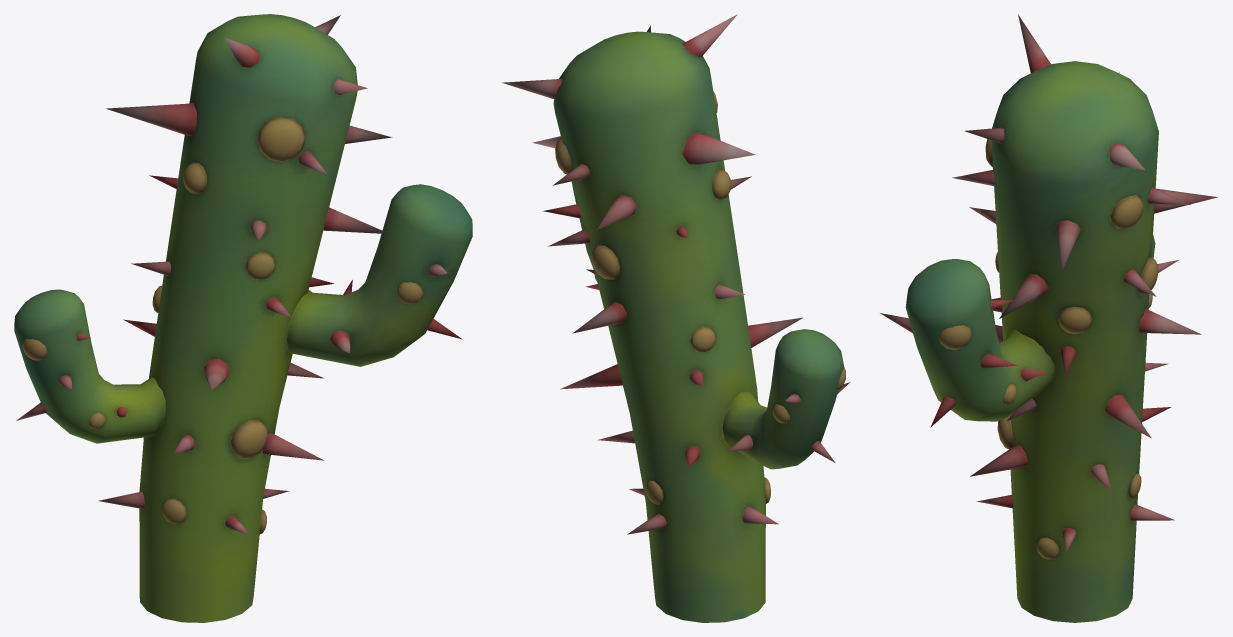
File: cactus_1.glb
3 views of the same model, side by side, from view 1: azimuth 30°, elevation 25°; view 2: azimuth 150°, elevation 25°; view 3: azimuth 270°, elevation 25° (orthographic). The views are drawn at different scales.
Visible parts, largest first — view 1: Sphere001; view 2: Sphere001; view 3: Sphere001.
Part boxes in pixels (x1=…): Sphere001: x1=14, y1=14, x2=472, y2=622; Sphere001: x1=502, y1=14, x2=849, y2=622; Sphere001: x1=880, y1=14, x2=1217, y2=622.
Size of the model in its own units: 1.1 by 1.68 by 0.8828.
1 material, 1 textured.
